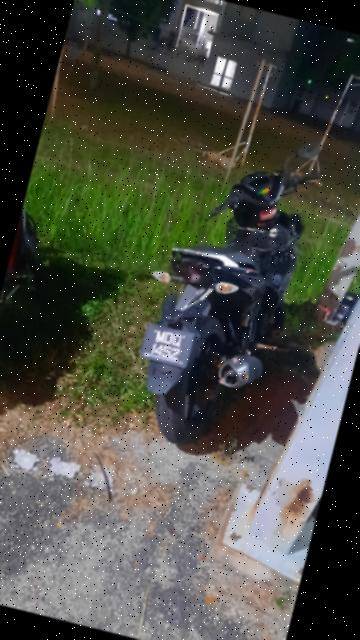License_Plate: (132, 319, 205, 378)
motorcycle: (103, 99, 348, 467)
